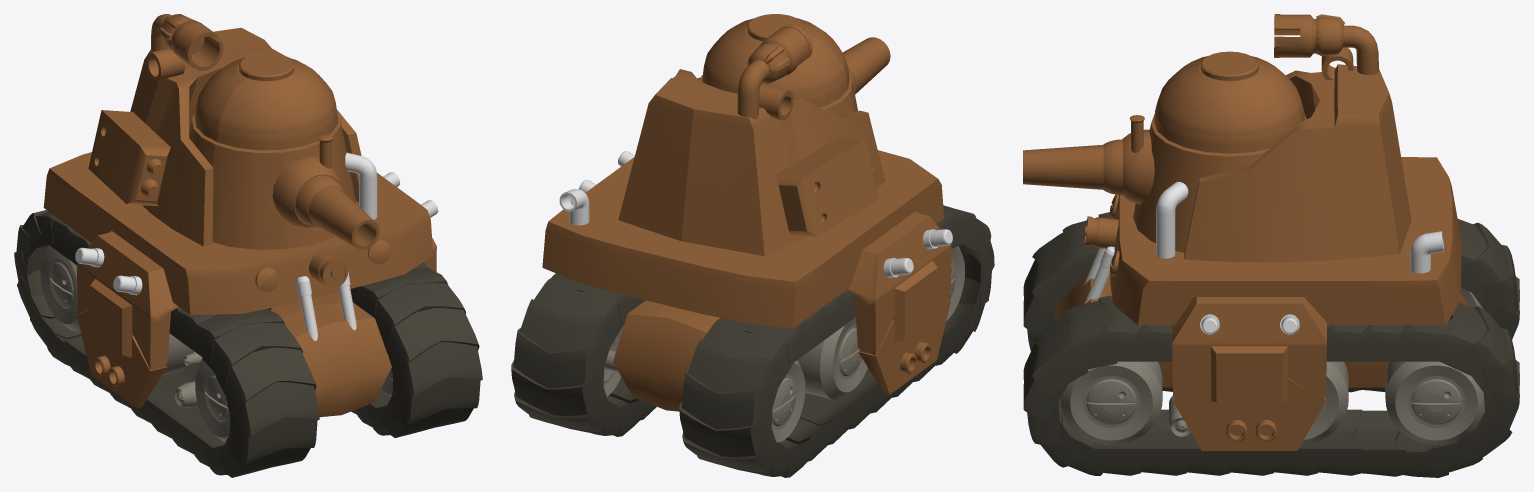
File: Tank3.fbx
3 views of the same model, side by side, from view 1: azimuth 30°, elevation 25°; view 2: azimuth 150°, elevation 25°; view 3: azimuth 270°, elevation 25° (orthographic). The views are drawn at different scales.
Parts seen in each view (by area): view 1: Turret, Trails, MainBody; view 2: MainBody, Trails, Turret; view 3: Trails, Turret, MainBody.
Part boxes in pixels (x1=…): Turret: x1=88, y1=14, x2=379, y2=249; Trails: x1=14, y1=210, x2=482, y2=477; MainBody: x1=43, y1=152, x2=438, y2=417; MainBody: x1=542, y1=150, x2=952, y2=411; Trails: x1=511, y1=205, x2=994, y2=477; Turret: x1=618, y1=14, x2=890, y2=255; Trails: x1=1023, y1=212, x2=1519, y2=477; Turret: x1=1023, y1=14, x2=1411, y2=262; MainBody: x1=1055, y1=157, x2=1470, y2=450.
Size of the model in its own units: 121 by 131 by 155.
